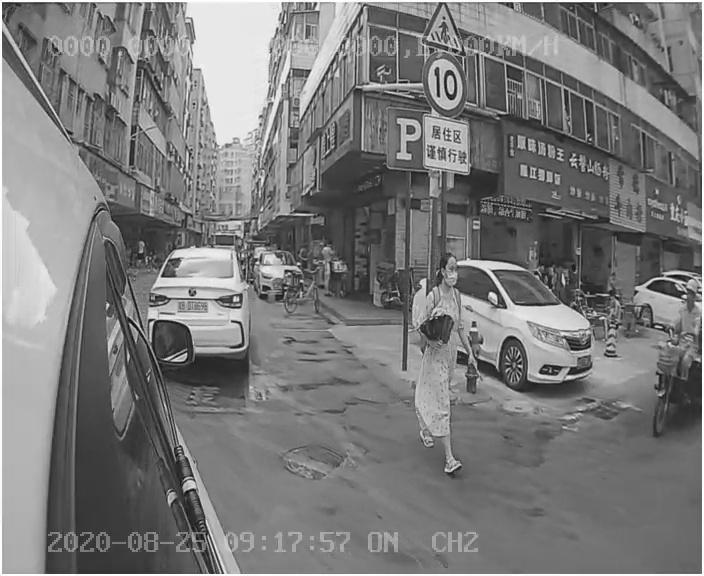person: (411, 253, 474, 476)
